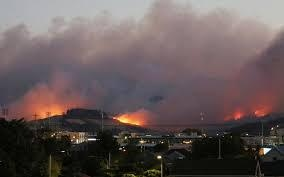fire: (114, 111, 144, 126), (40, 105, 66, 117)
